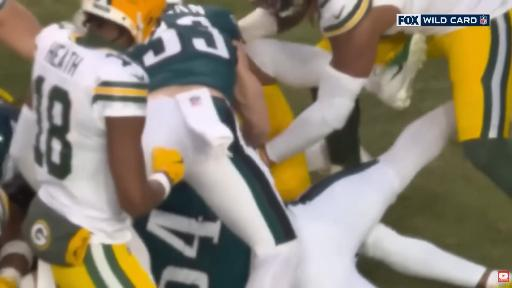Helmet: (82, 0, 166, 42), (167, 0, 183, 5)
Jersey: (32, 24, 147, 237), (135, 182, 250, 287), (135, 183, 250, 287), (129, 5, 240, 101), (319, 0, 511, 37), (0, 101, 35, 210), (0, 103, 19, 183), (0, 0, 7, 11)
Player: (15, 0, 183, 287), (130, 5, 298, 287), (267, 0, 511, 193), (288, 104, 498, 287), (365, 227, 487, 286), (0, 99, 35, 287), (366, 35, 425, 109), (0, 0, 41, 60)
